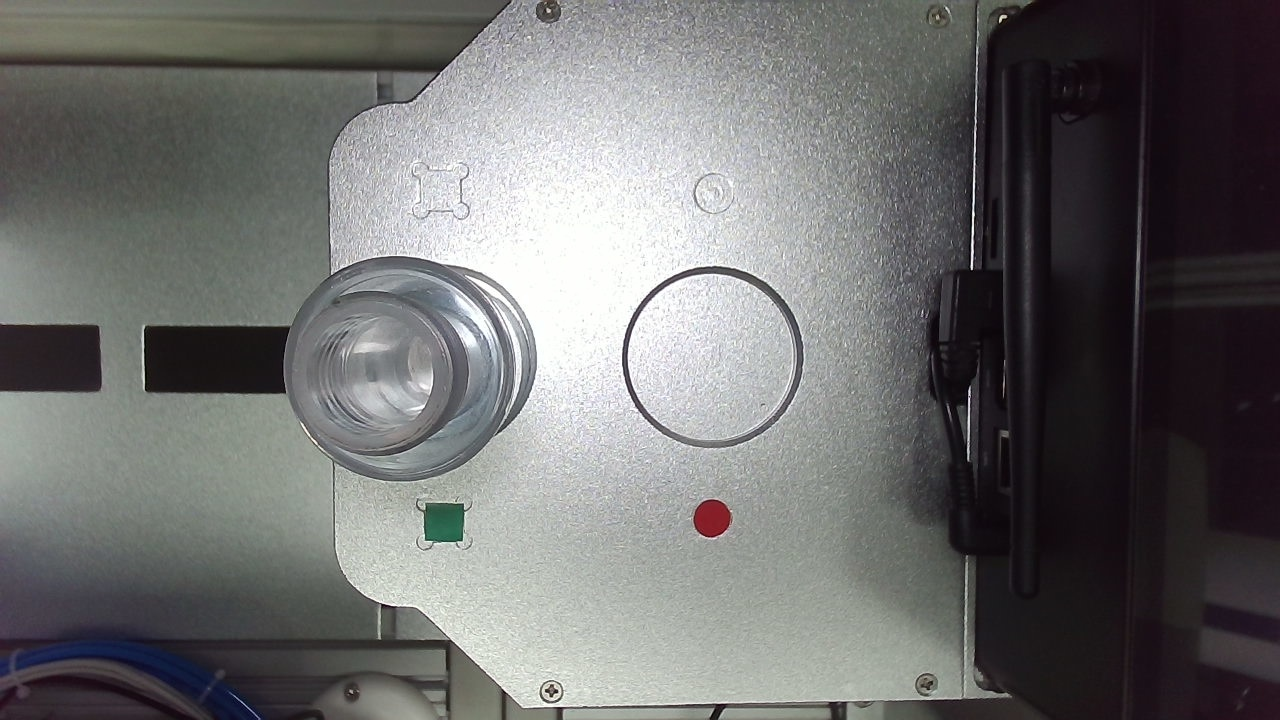XLabel: (779, 226, 813, 262)
YLabel: (561, 227, 596, 262)
none: (718, 293, 878, 455)
transparenexcept: (466, 258, 676, 466)
